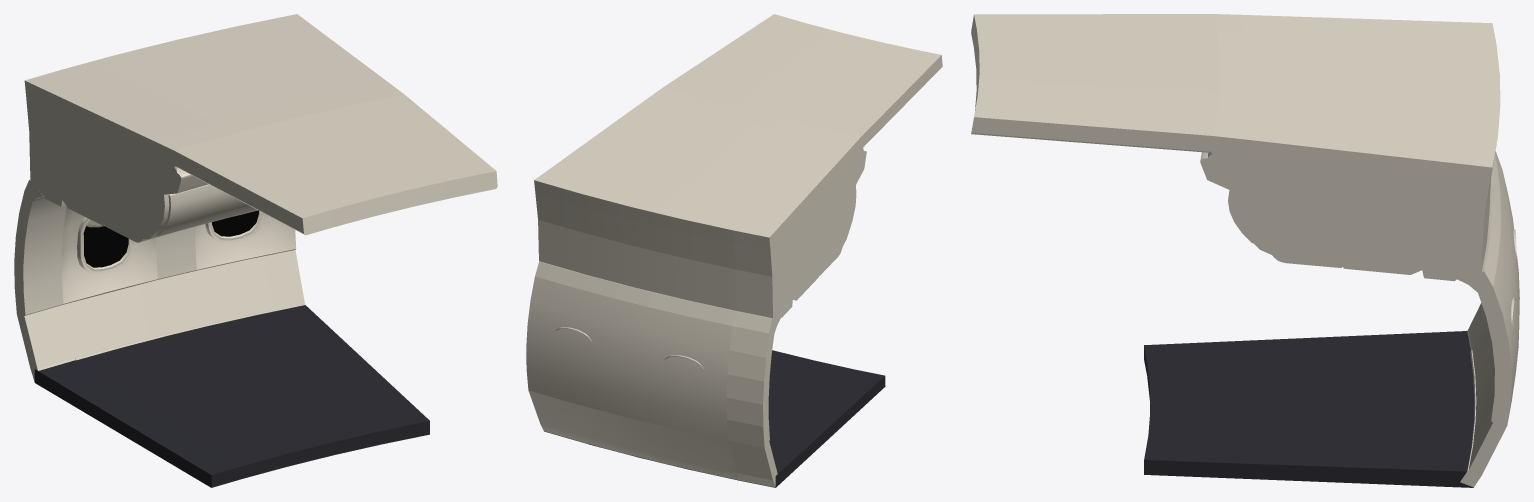
File: air_genericcurved.fbx
3 views of the same model, side by side, from view 1: azimuth 30°, elevation 25°; view 2: azimuth 150°, elevation 25°; view 3: azimuth 270°, elevation 25° (orthographic). The views are drawn at different scales.
Parts seen in each view (by area): view 1: overhead, floor, airplanesection_generic, pCube42, window2, window1; view 2: overhead, airplanesection_generic, floor; view 3: overhead, floor, airplanesection_generic.
Boxes of the visible parts, left/top/right/bottom form: overhead: left=24, top=14, right=497, bottom=242; floor: left=34, top=305, right=429, bottom=487; airplanesection_generic: left=14, top=179, right=305, bottom=381; pCube42: left=157, top=184, right=256, bottom=236; window2: left=77, top=217, right=133, bottom=273; window1: left=205, top=210, right=264, bottom=242; overhead: left=534, top=14, right=942, bottom=318; airplanesection_generic: left=526, top=261, right=780, bottom=487; floor: left=544, top=350, right=885, bottom=487; overhead: left=971, top=14, right=1500, bottom=281; floor: left=1144, top=331, right=1474, bottom=487; airplanesection_generic: left=1457, top=151, right=1519, bottom=487.
Bounding box in the file's own units: 5.38 × 6.08 × 8.6.
